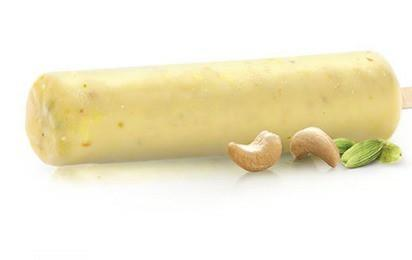Kulfi: (26, 48, 401, 166)
